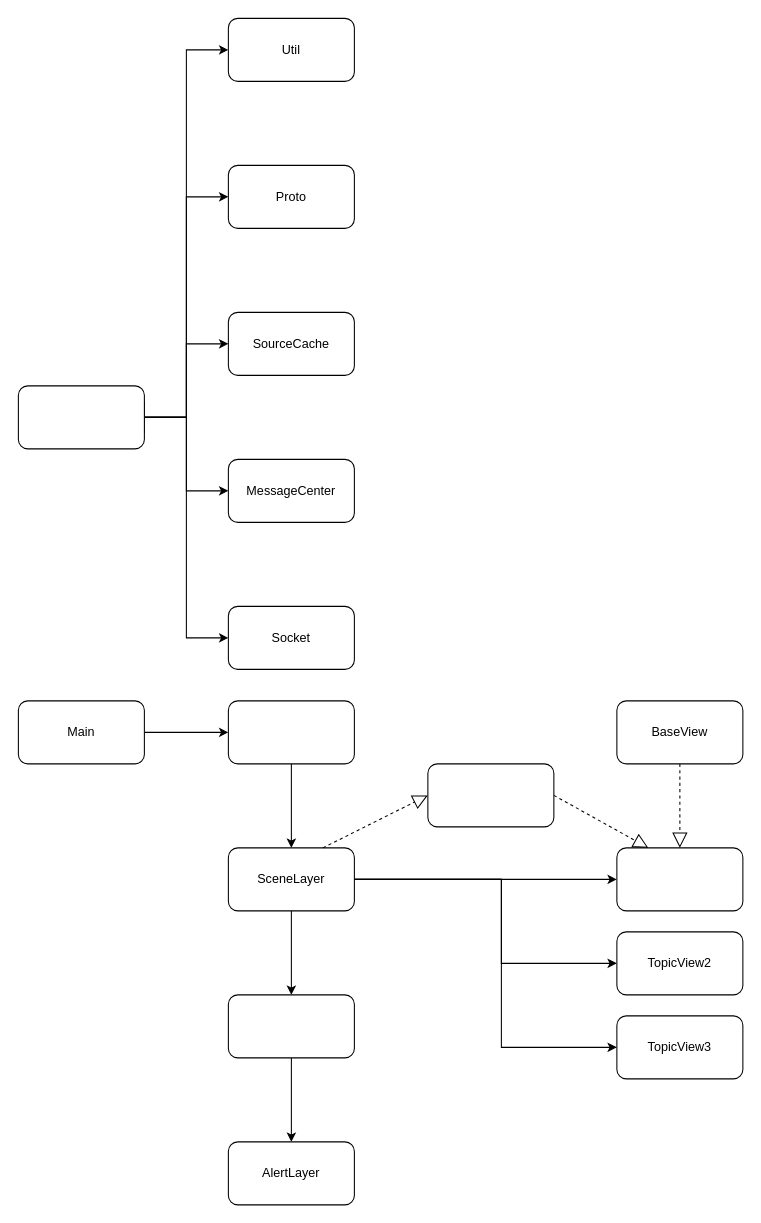
Image size: 761x1223. Some labels were removed from this diagram. The centre of each missing label's shape, as x and y in pixels:
"App" goes at pixel 80 417.
"RootView" goes at pixel 290 732.
"SceneManager" goes at pixel 490 795.
"ToolLayer" goes at pixel 290 1026.
"TopicView1" goes at pixel 679 879.
